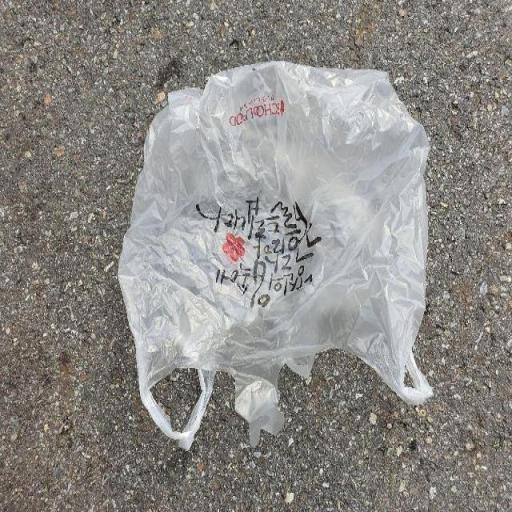plastic-bag: (114, 59, 438, 450)
